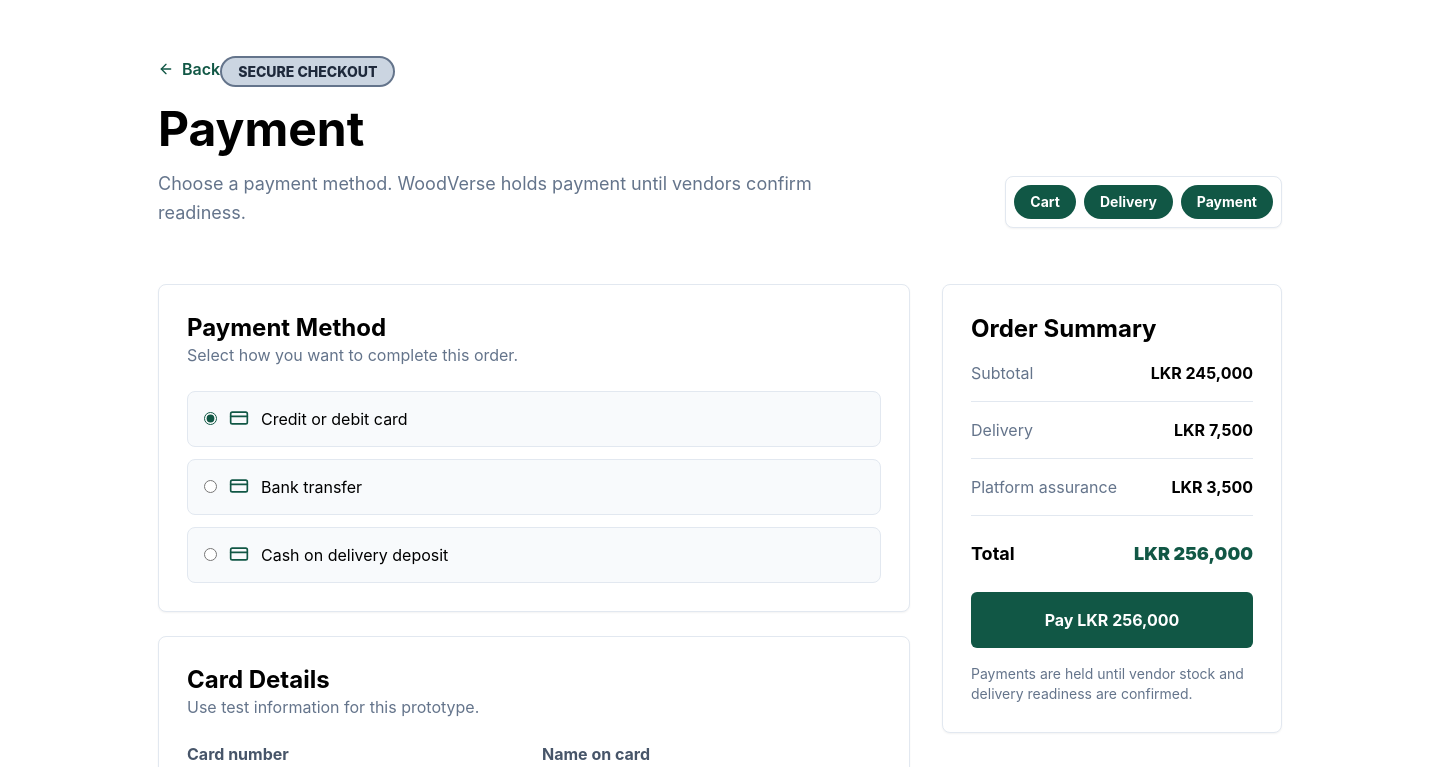
Test: PaymentPage checkout › surfaces an API failure instead of claiming success
The image size is (1440, 767).
Step 1. Click the button "Pay LKR 256,000" → click(1112, 620), box [971,592,1253,648]
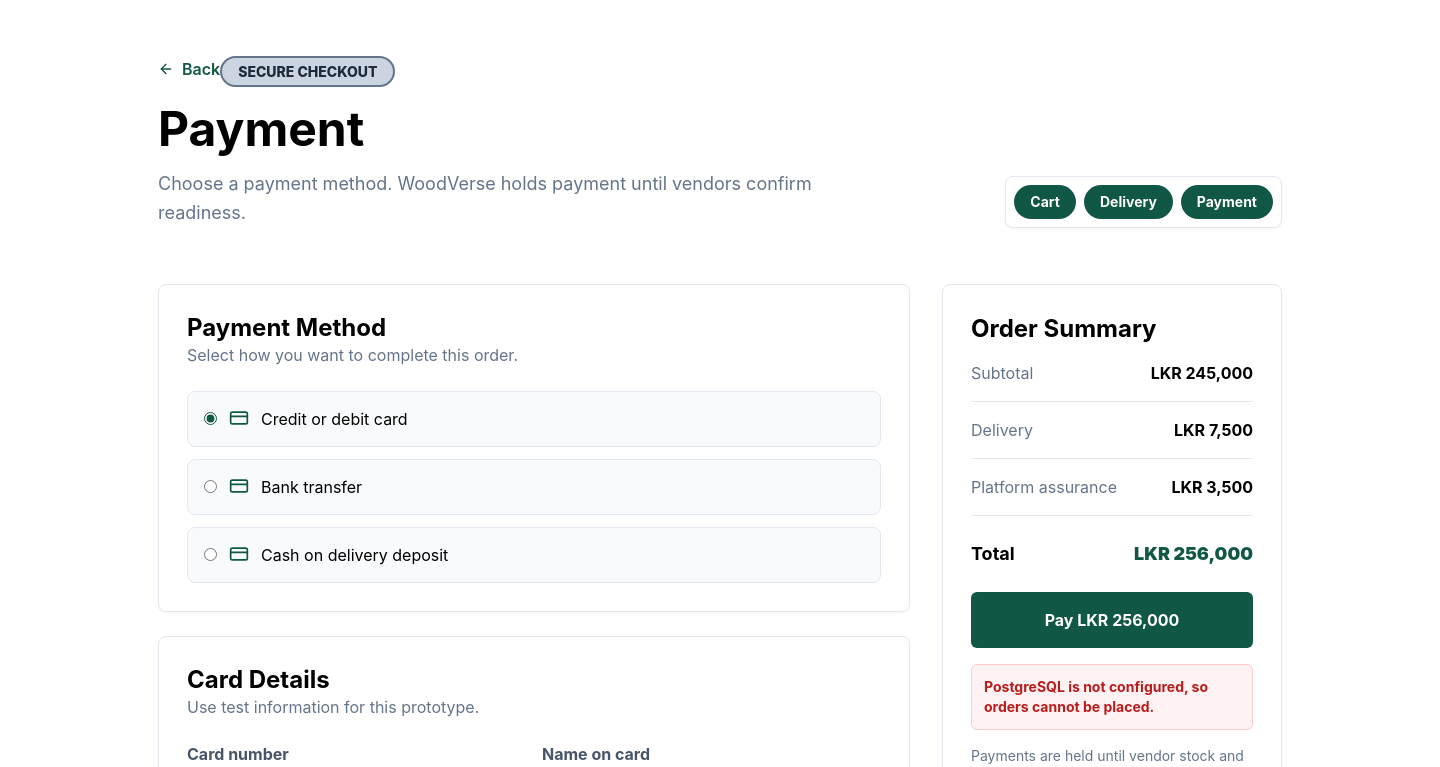
Check: the message shows "PostgreSQL is not configured", box [984,678,1208,714]
